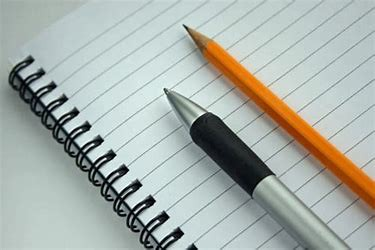pen: (183, 24, 375, 194), (157, 86, 347, 250)
